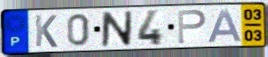0: (65, 12, 93, 48)
4: (136, 9, 166, 47)
A: (206, 8, 244, 44)
K: (33, 14, 59, 49)
N: (100, 10, 134, 48)
P: (176, 9, 208, 46)
